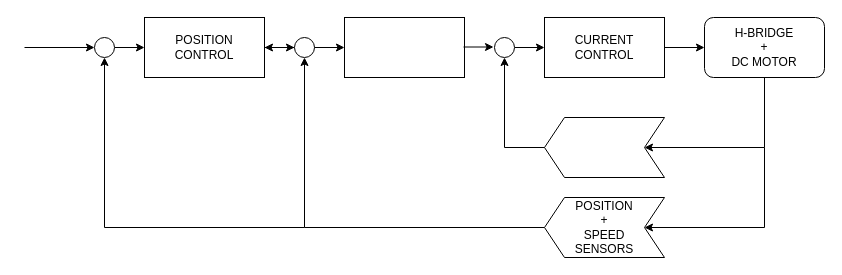
Image size: 842x275. Some labels were removed from this diagram. The shapes that lost their labels are listed below. From the top down, each one's centre as x and y in pixels, then its label:
point (404, 47): SPEED CONTROL
point (604, 147): VOLTAGE + CURRENT SENSORS
